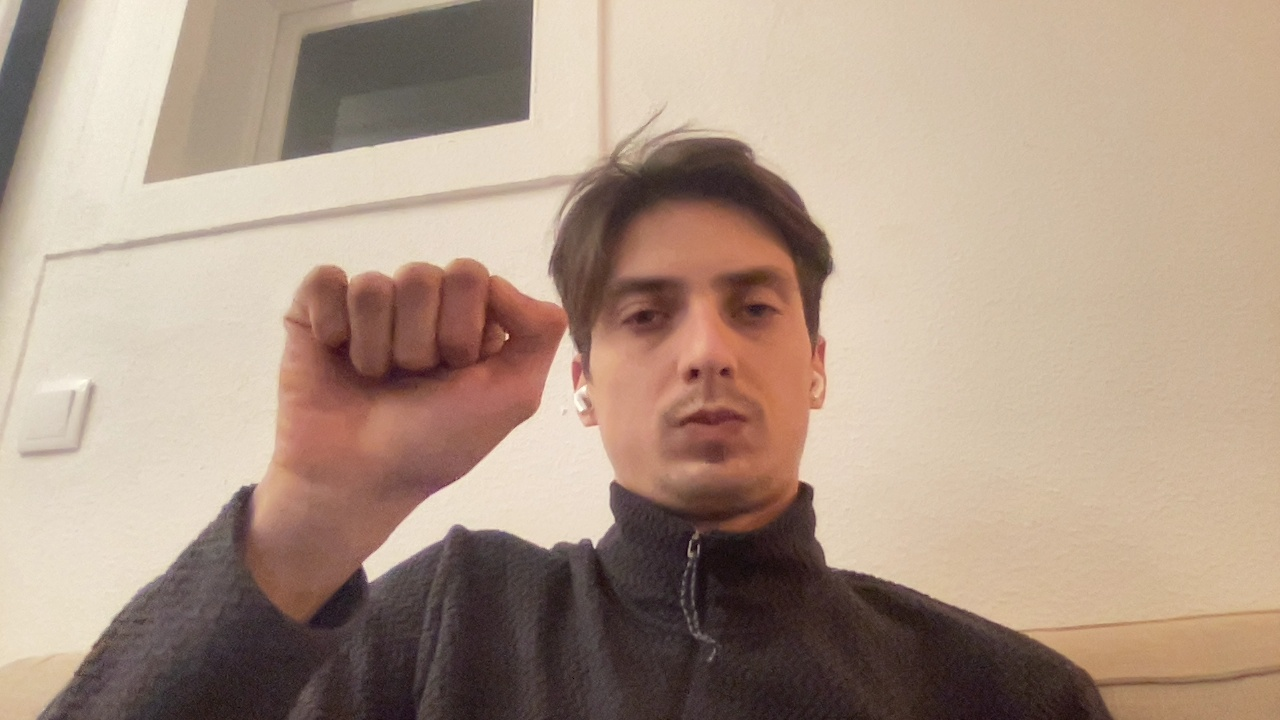Yes: (240, 248, 565, 504)
